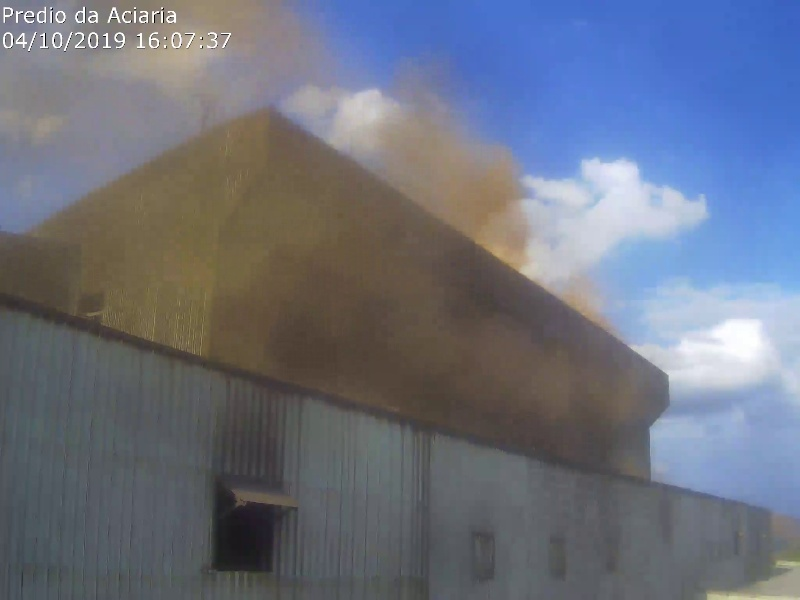pessimo: (173, 98, 528, 396), (29, 4, 330, 132), (28, 143, 174, 335)
